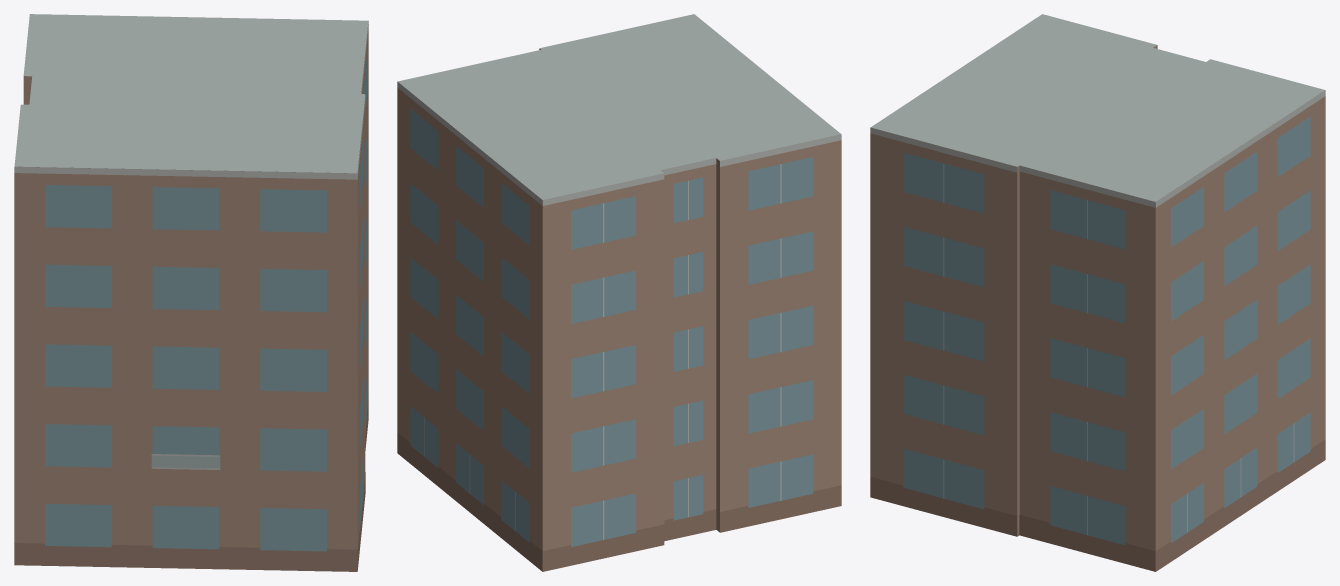
File: survey-upis-32920305.glb
3 renders of one model, left to right at view 1: azimuth 30°, elevation 25°; view 2: azimuth 150°, elevation 25°; view 3: azimuth 270°, elevation 25°, orthographic. The views are drawn at different scales.
Visible parts, largest first — view 1: survey-upis-32920305.tmp; view 2: survey-upis-32920305.tmp; view 3: survey-upis-32920305.tmp.
Boxes of the visible parts, x1,y1,x2,y2 form: survey-upis-32920305.tmp: (14,14,368,571); survey-upis-32920305.tmp: (397,14,841,571); survey-upis-32920305.tmp: (870,14,1325,571).
Bounding box in the file's own units: 16.58 × 15.2 × 16.96.
